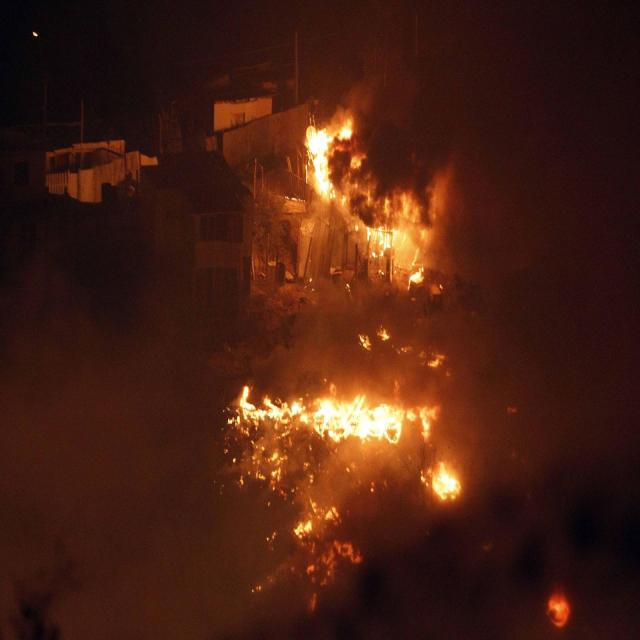Fire: (233, 382, 442, 444), (298, 118, 338, 198), (356, 214, 412, 270), (286, 499, 346, 546), (424, 460, 466, 509), (401, 256, 424, 292)
Smoke: (353, 40, 464, 191)
